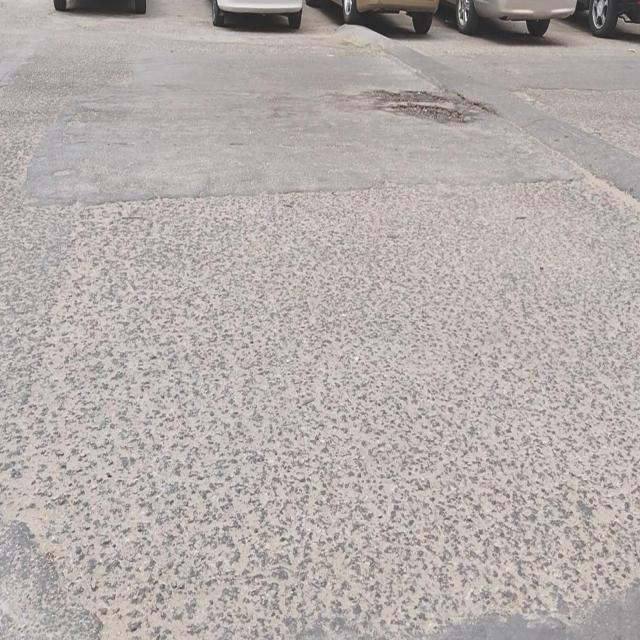Potholes: (367, 90, 467, 130)
